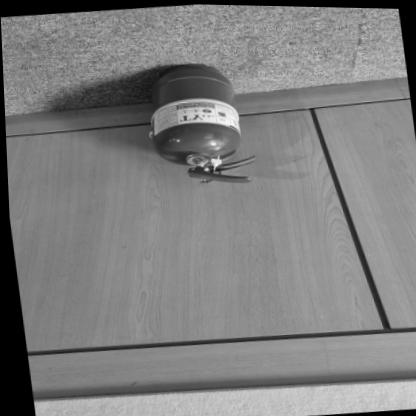FE: (145, 56, 256, 189)
